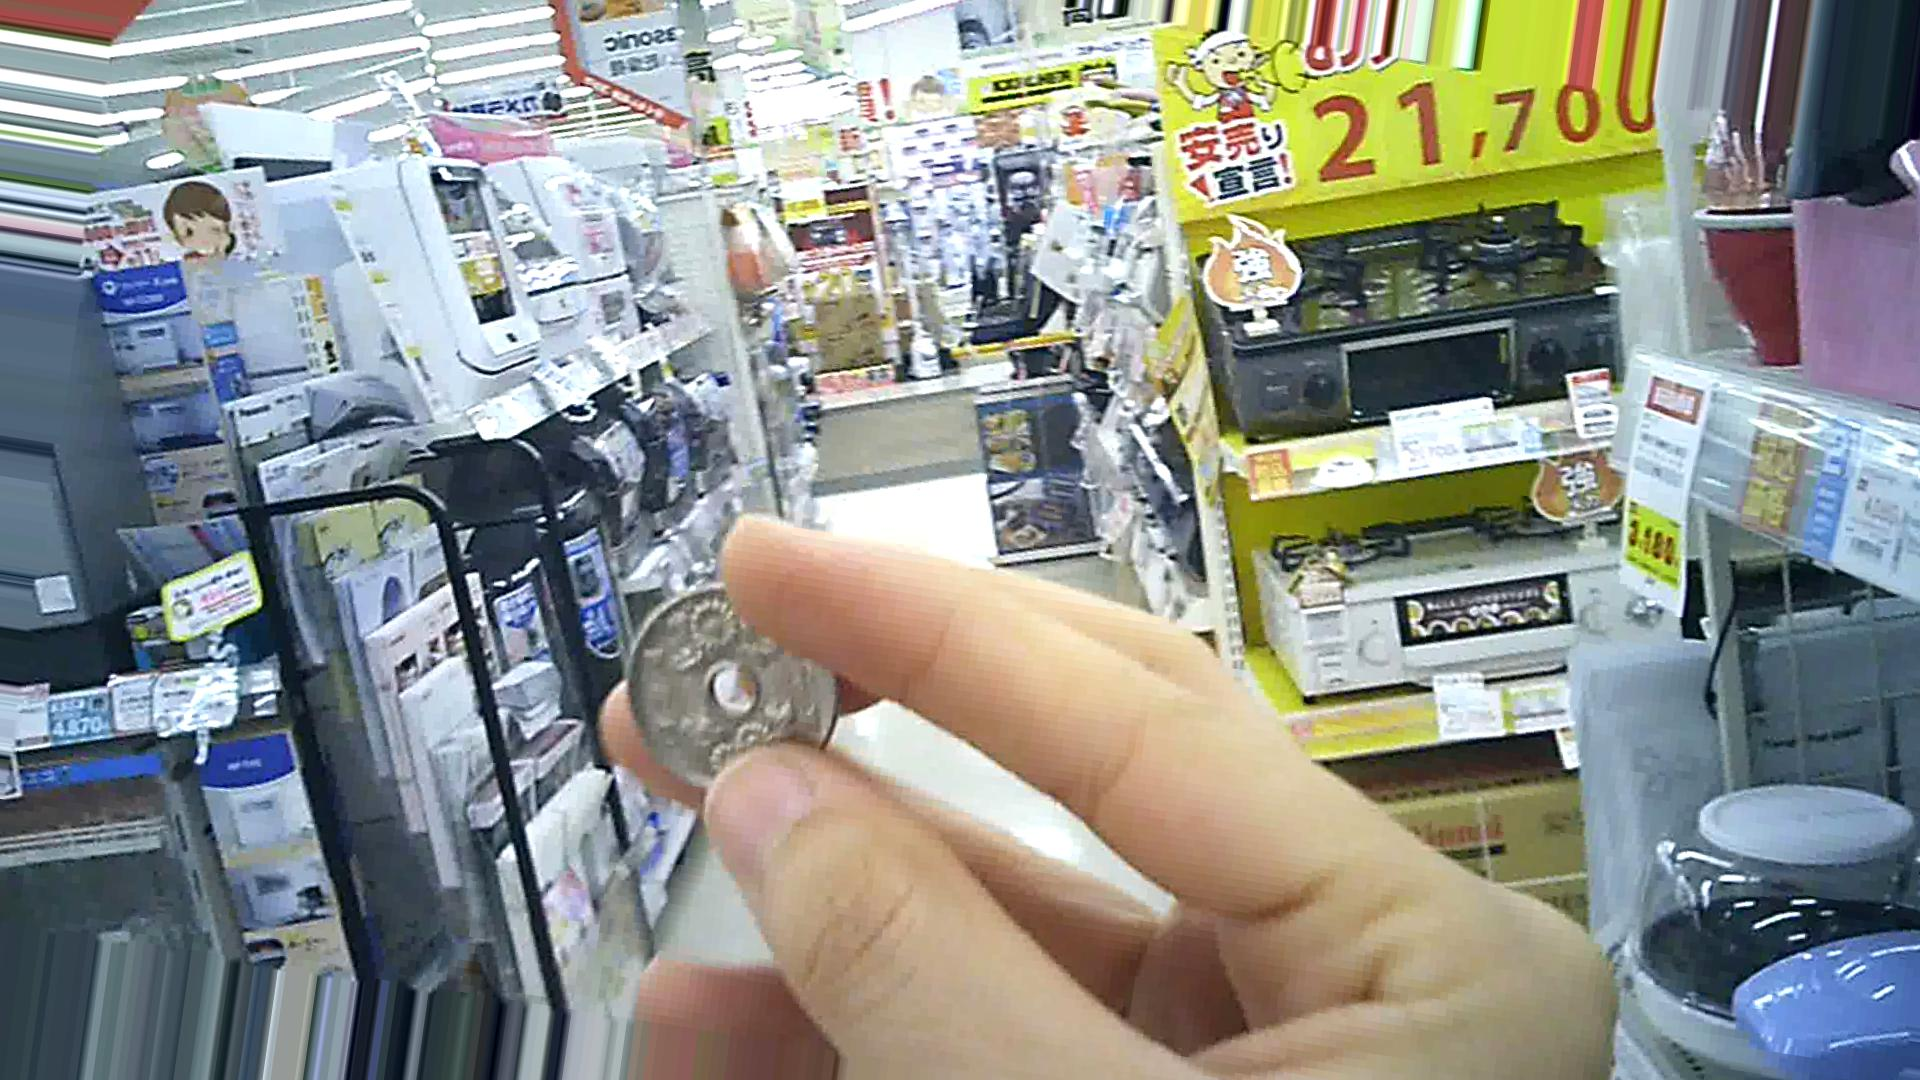50 Yen: (615, 588, 865, 818)
